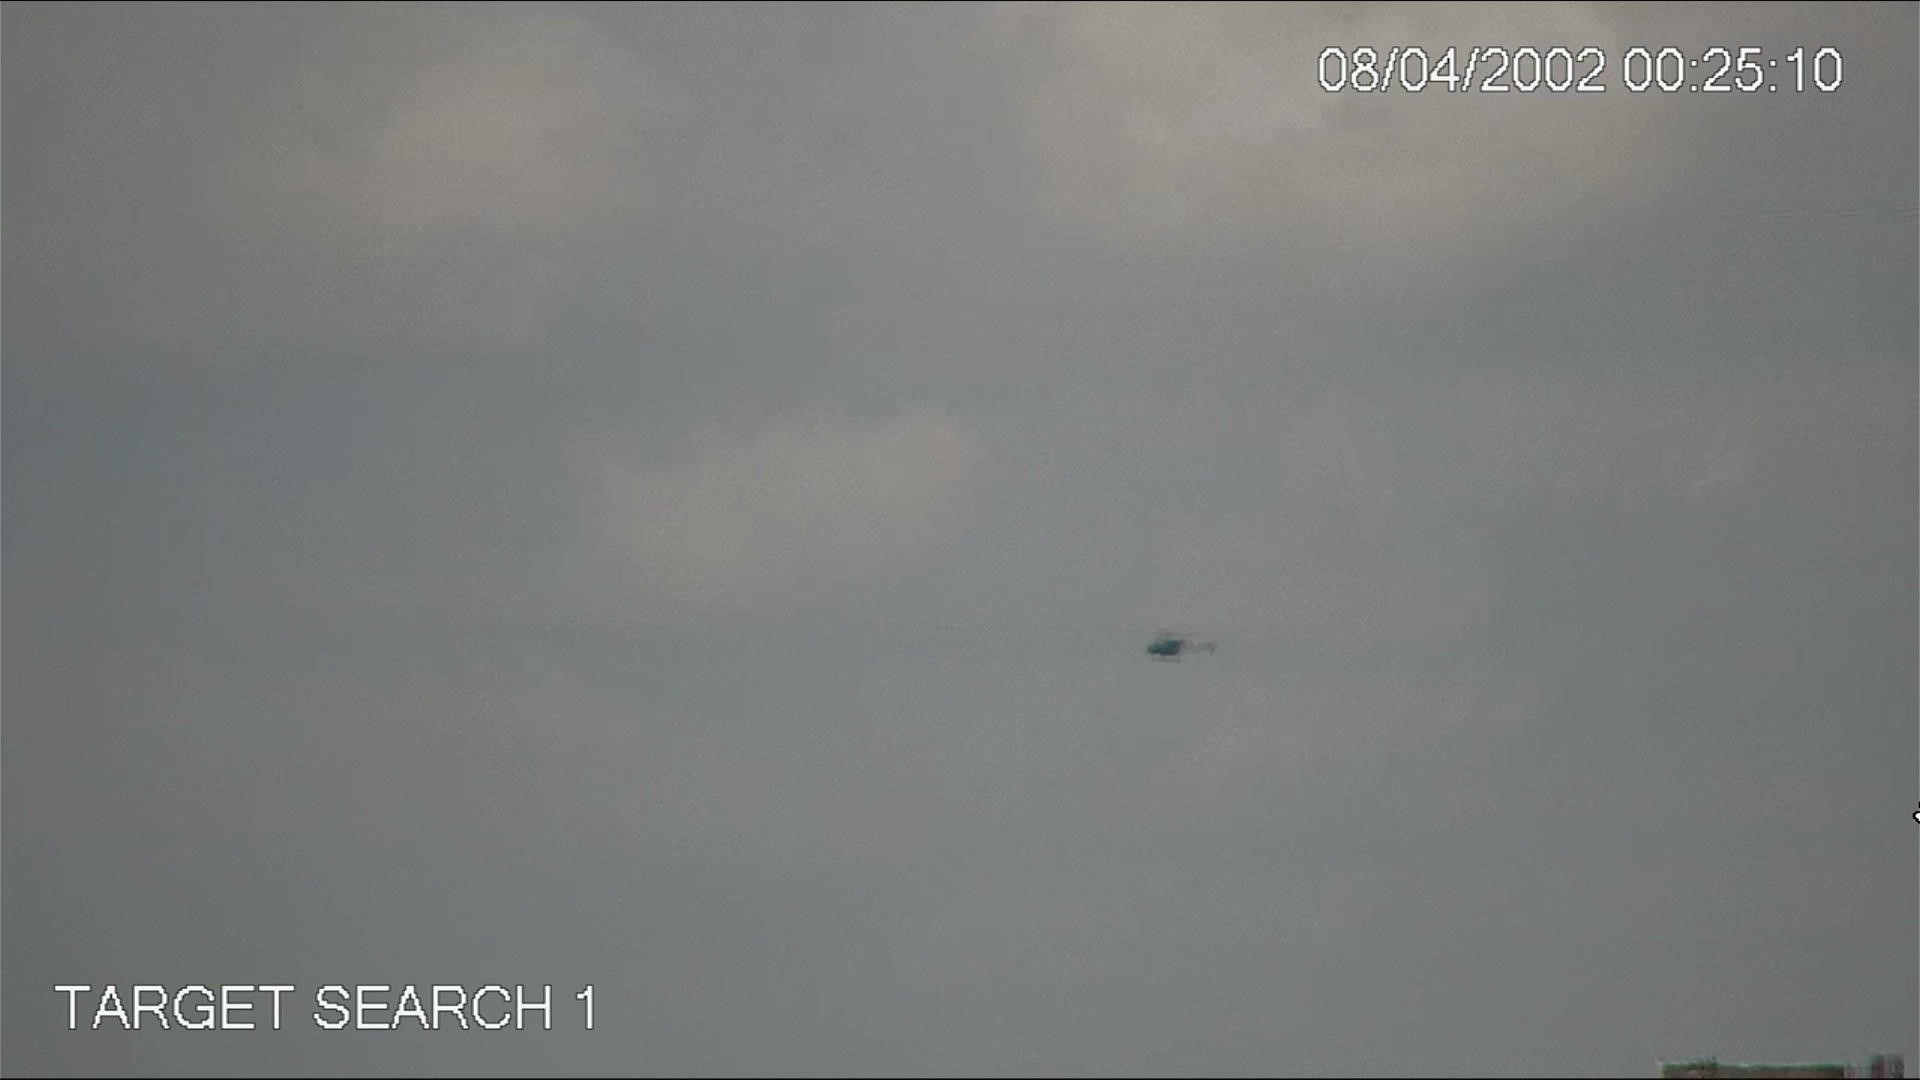SU_30: (1143, 626, 1218, 663)
